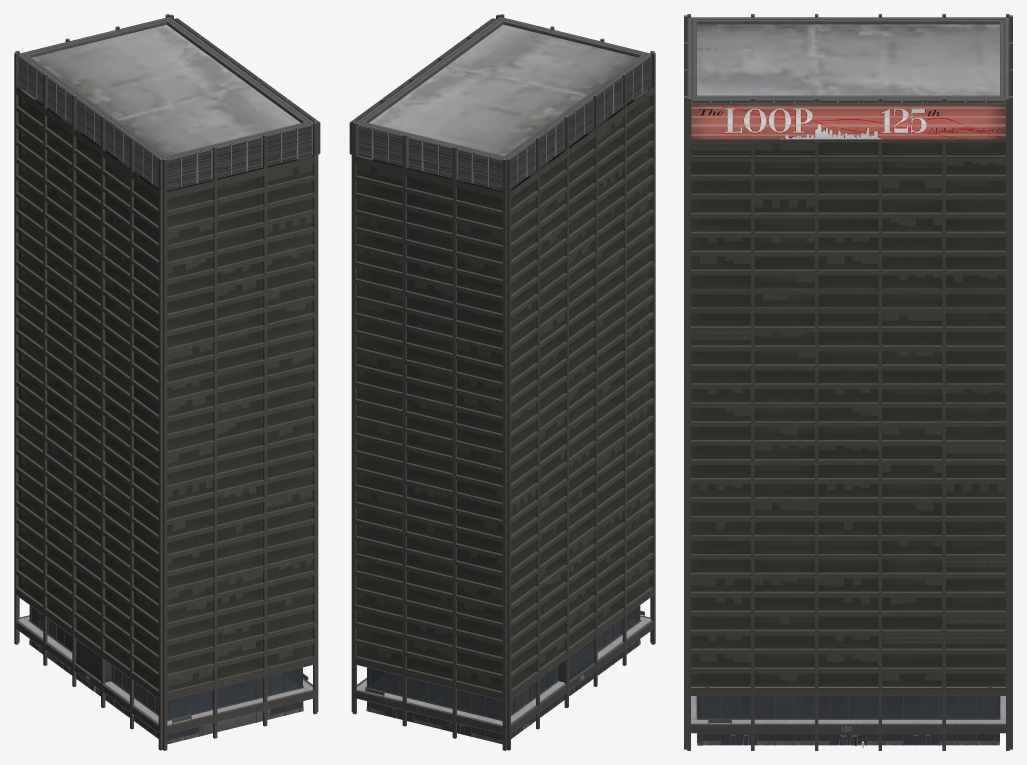
Rendered from capstone2_blacktower-transformed.glb.
3 views of the same model, side by side, from view 1: azimuth 30°, elevation 25°; view 2: azimuth 150°, elevation 25°; view 3: azimuth 270°, elevation 25° (orthographic). The views are drawn at different scales.
Visible parts, largest first — view 1: Cube.002_Material_0, Cube.005_Glass_0, Cube.012_Parralax Mapping_0, Cube.001_Windows_0, Cube.006_Emmisive_0, Cube.007_Glass Lobby_0, Cube.003_Blinds_0; view 2: Cube.002_Material_0, Cube.005_Glass_0, Cube.012_Parralax Mapping_0, Cube.001_Windows_0, Cube.006_Emmisive_0, Cube.007_Glass Lobby_0, Cube.003_Blinds_0; view 3: Cube.005_Glass_0, Cube.002_Material_0, Cube.012_Parralax Mapping_0, Cube.001_Windows_0, Cube.004_Billboard_0, Cube.007_Glass Lobby_0, Cube.003_Blinds_0, Cube.006_Emmisive_0.
Boxes of the visible parts, x1=… form: Cube.002_Material_0: x1=14, y1=14, x2=320, y2=750; Cube.005_Glass_0: x1=18, y1=90, x2=312, y2=690; Cube.012_Parralax Mapping_0: x1=19, y1=97, x2=311, y2=690; Cube.001_Windows_0: x1=18, y1=90, x2=312, y2=691; Cube.006_Emmisive_0: x1=18, y1=55, x2=312, y2=190; Cube.007_Glass Lobby_0: x1=29, y1=605, x2=303, y2=740; Cube.003_Blinds_0: x1=19, y1=114, x2=311, y2=685; Cube.002_Material_0: x1=349, y1=14, x2=655, y2=750; Cube.005_Glass_0: x1=357, y1=90, x2=651, y2=690; Cube.012_Parralax Mapping_0: x1=358, y1=96, x2=650, y2=690; Cube.001_Windows_0: x1=357, y1=90, x2=651, y2=691; Cube.006_Emmisive_0: x1=357, y1=56, x2=651, y2=190; Cube.007_Glass Lobby_0: x1=367, y1=605, x2=640, y2=740; Cube.003_Blinds_0: x1=358, y1=118, x2=650, y2=682; Cube.005_Glass_0: x1=691, y1=143, x2=1005, y2=685; Cube.002_Material_0: x1=684, y1=14, x2=1012, y2=750; Cube.012_Parralax Mapping_0: x1=691, y1=143, x2=1005, y2=685; Cube.001_Windows_0: x1=691, y1=143, x2=1005, y2=686; Cube.004_Billboard_0: x1=691, y1=105, x2=1005, y2=139; Cube.007_Glass Lobby_0: x1=697, y1=696, x2=999, y2=744; Cube.003_Blinds_0: x1=692, y1=143, x2=1004, y2=680; Cube.006_Emmisive_0: x1=691, y1=99, x2=1005, y2=102.
Bounding box in the file's own units: 60.83 × 212 × 96.86.
12 materials, 11 textured.
